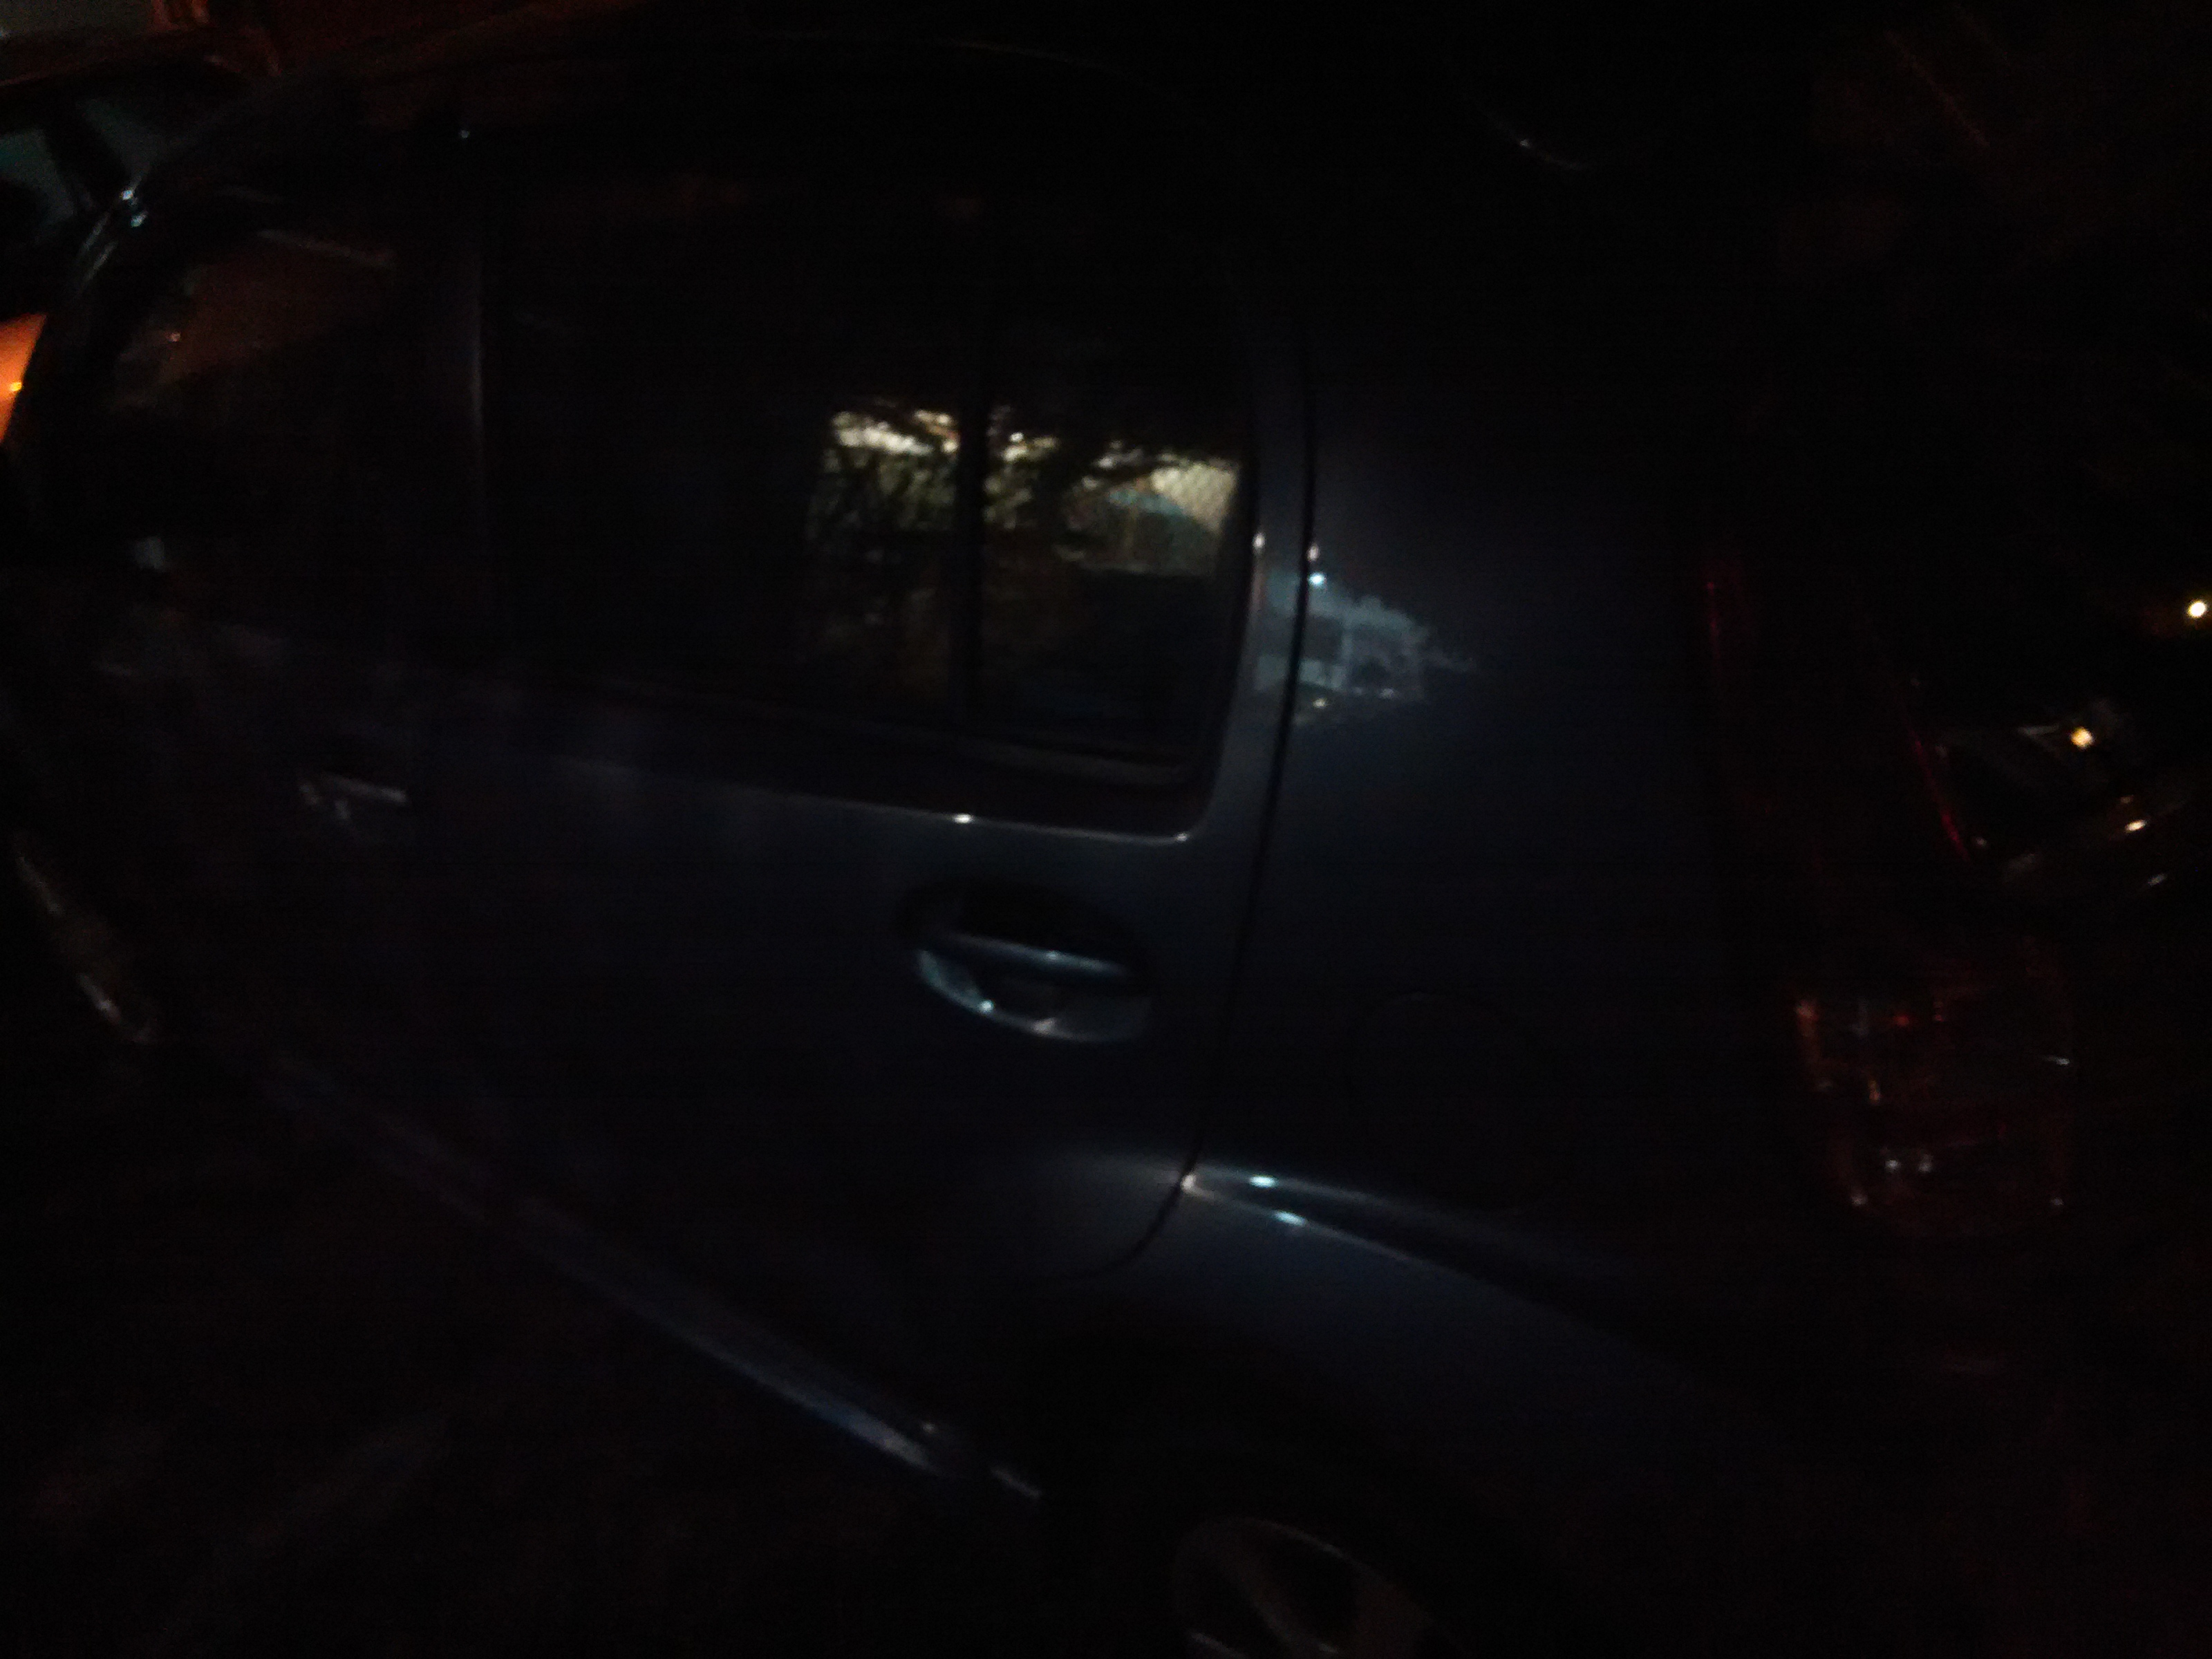car: (5, 24, 2202, 1629)
